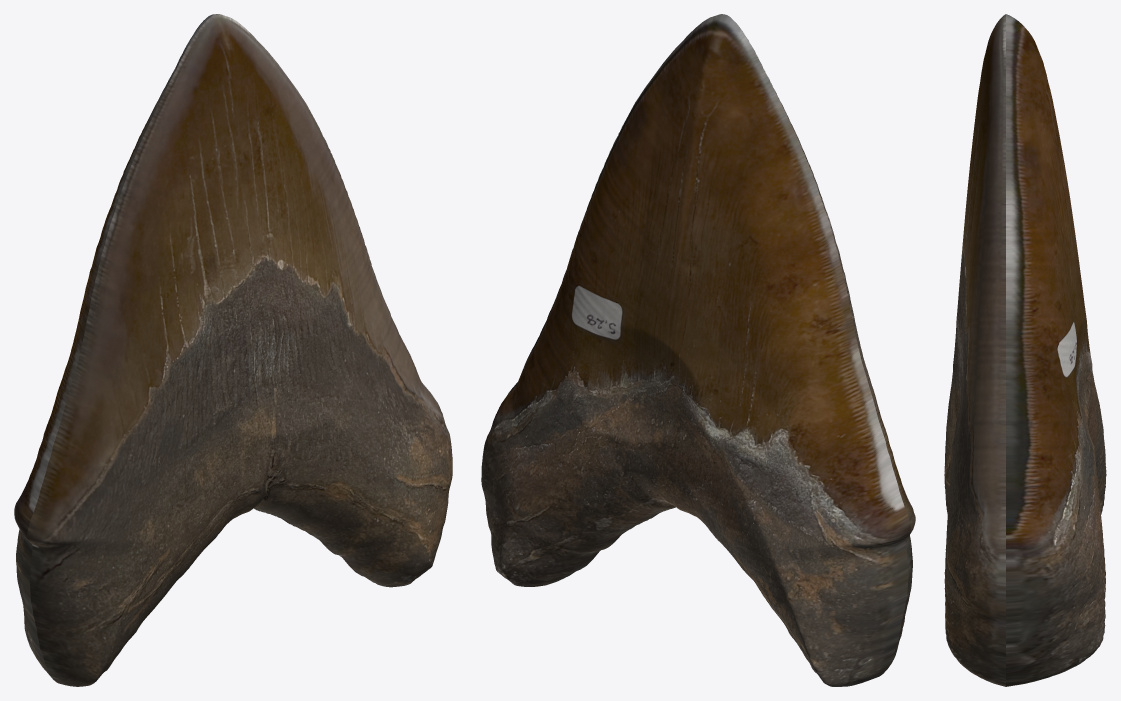
File: meherrin-textured.glb
3 views of the same model, side by side, from view 1: azimuth 30°, elevation 25°; view 2: azimuth 150°, elevation 25°; view 3: azimuth 270°, elevation 25° (orthographic). The views are drawn at different scales.
Visible parts, largest first — view 1: sale 145 tooth; view 2: sale 145 tooth; view 3: sale 145 tooth.
Part boxes in pixels (x1,y1,x2,y2): sale 145 tooth: (14, 14, 452, 686); sale 145 tooth: (481, 14, 915, 686); sale 145 tooth: (944, 14, 1106, 686).
Size of the model in its own units: 89.88 by 129 by 31.25.
2 materials, 2 textured.
